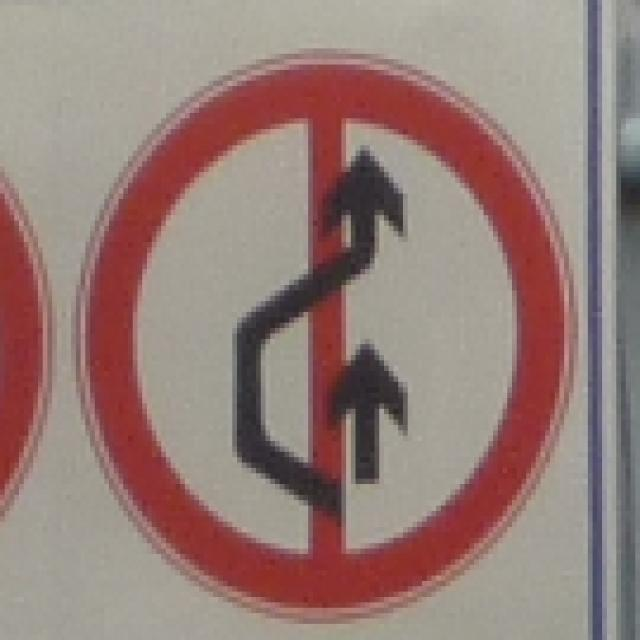Not that Direction: (79, 49, 579, 618)
